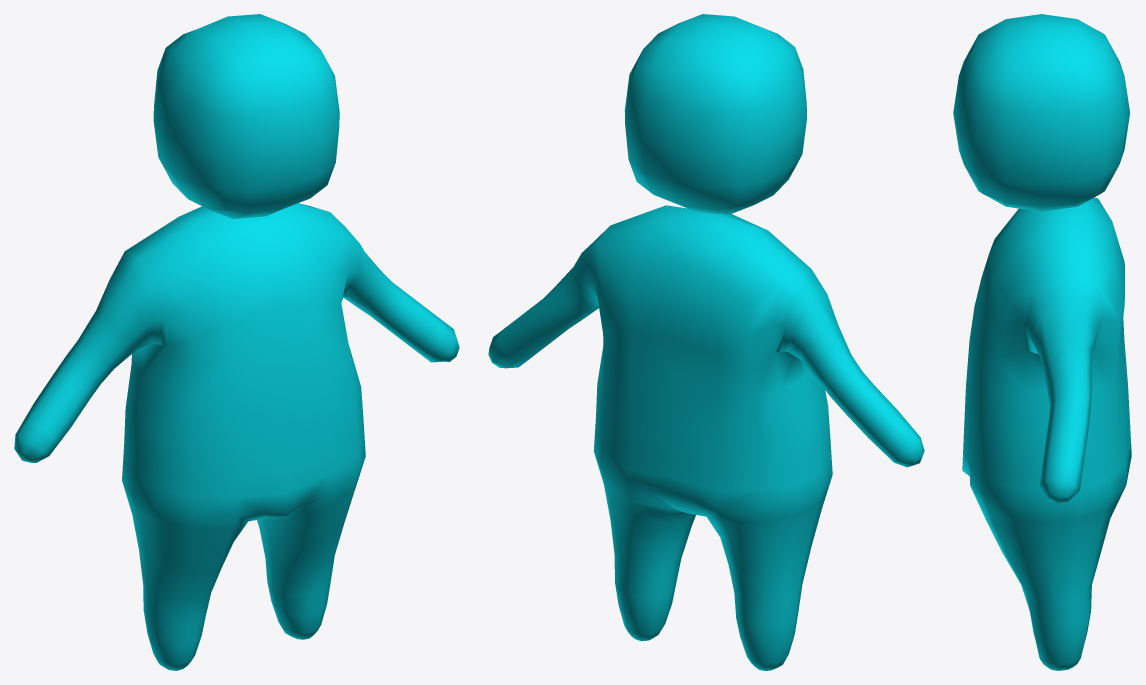
File: Character.fbx
3 renders of one model, left to right at view 1: azimuth 30°, elevation 25°; view 2: azimuth 150°, elevation 25°; view 3: azimuth 270°, elevation 25°, orthographic. The views are drawn at different scales.
Parts seen in each view (by area): view 1: Character; view 2: Character; view 3: Character.
Part boxes in pixels (<box>): Character: <box>14,14,459,670</box>; Character: <box>488,14,924,670</box>; Character: <box>953,14,1131,670</box>.
Size of the model in its own units: 87.48 by 121 by 31.72.
